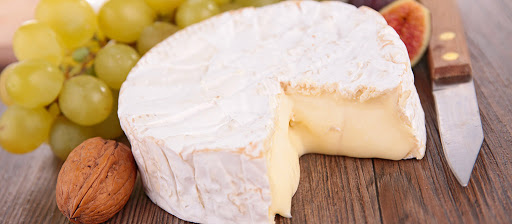camembert: (115, 1, 427, 224)
